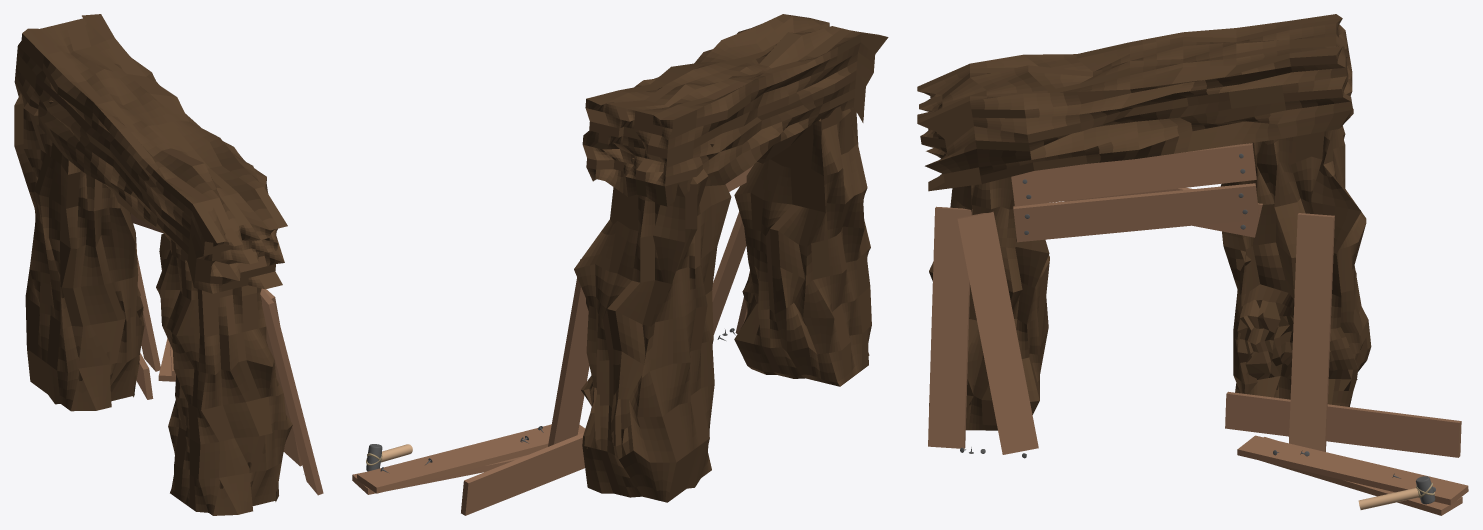
File: CaveEntranceV1.fbx
The picture shows the model from 3 angles, left to right: view 1: azimuth 30°, elevation 25°; view 2: azimuth 150°, elevation 25°; view 3: azimuth 270°, elevation 25°; orthographic projection. The views are drawn at different scales.
Visible parts, largest first — view 1: pCube3, pCube2, pCube1, pCube9, pCube11, pCube10, pCube12, pCube13; view 2: pCube2, pCube3, pCube1, pCube14, pCube12, pCube11, pCube10, pCube13; view 3: pCube3, pCube2, pCube1, pCube10, pCube8, pCube11, pCube9, pCube6, pCube12, pCube14, pCube13, pCube5 (+1 smaller).
Part boxes in pixels (x1,y1,x2,y2): pCube3: [14, 14, 287, 293]; pCube2: [14, 93, 144, 411]; pCube1: [156, 233, 292, 515]; pCube9: [260, 288, 323, 495]; pCube11: [137, 255, 160, 371]; pCube10: [263, 289, 302, 466]; pCube12: [136, 352, 153, 399]; pCube13: [158, 338, 175, 381]; pCube2: [574, 142, 731, 502]; pCube3: [582, 14, 888, 206]; pCube1: [734, 106, 871, 386]; pCube14: [357, 424, 585, 493]; pCube12: [461, 432, 584, 515]; pCube11: [548, 259, 589, 446]; pCube10: [712, 211, 746, 334]; pCube13: [352, 455, 527, 494]; pCube3: [917, 14, 1353, 191]; pCube2: [1220, 125, 1371, 406]; pCube1: [929, 177, 1049, 430]; pCube10: [957, 211, 1038, 454]; pCube8: [1013, 183, 1259, 242]; pCube11: [1289, 213, 1334, 451]; pCube9: [928, 206, 972, 448]; pCube6: [1011, 143, 1256, 206]; pCube12: [1225, 391, 1461, 457]; pCube14: [1237, 435, 1468, 505]; pCube13: [1260, 437, 1462, 515]; pCube5: [1064, 187, 1262, 237].
Bounding box in the file's own units: 15.84 × 21.24 × 27.89.
